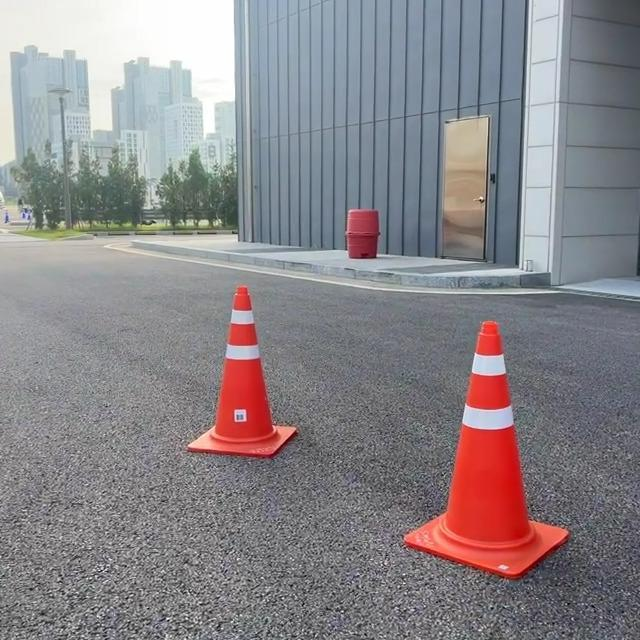fallen_object: (390, 253, 637, 640), (159, 287, 317, 507)
